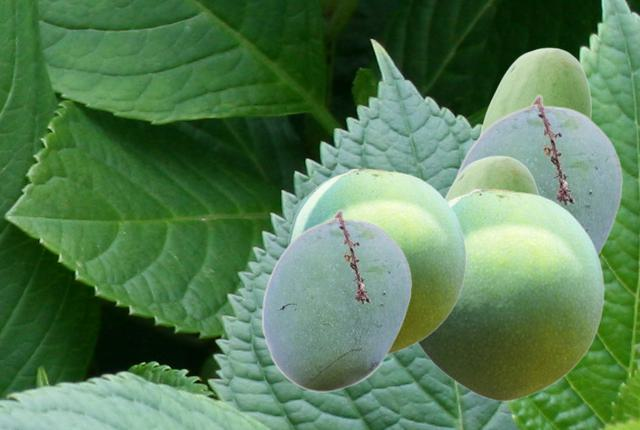green_mango: (416, 187, 603, 400), (287, 167, 465, 354), (450, 94, 622, 255), (261, 209, 411, 391), (479, 47, 590, 134), (445, 155, 539, 199)
